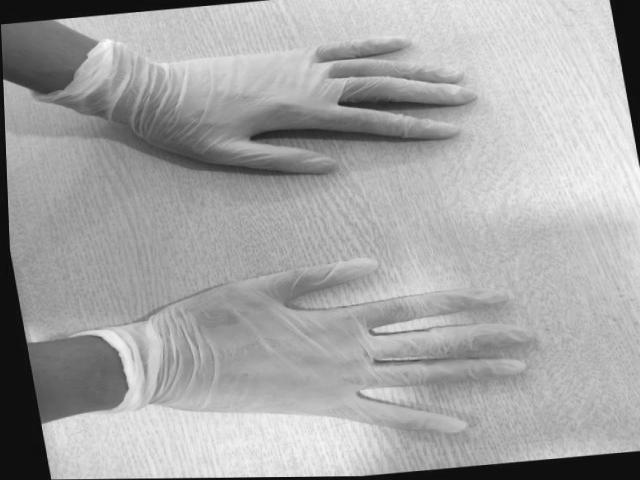gloved: (157, 258, 527, 438), (148, 33, 474, 176)
